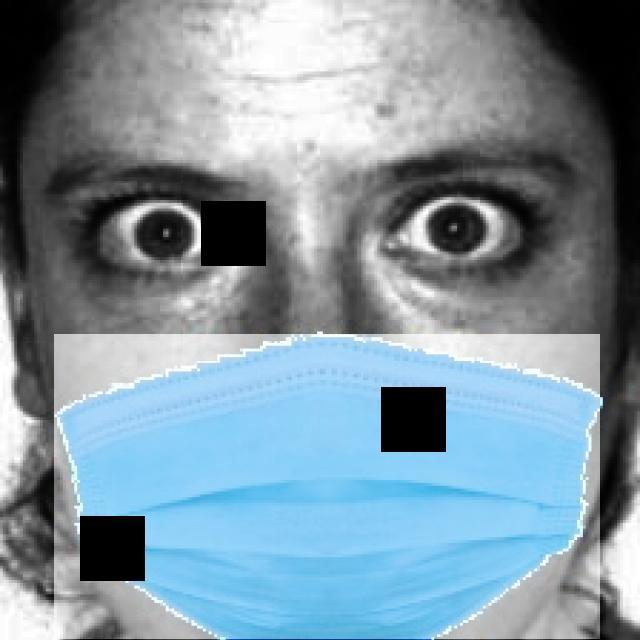mask: (54, 334, 600, 640)
